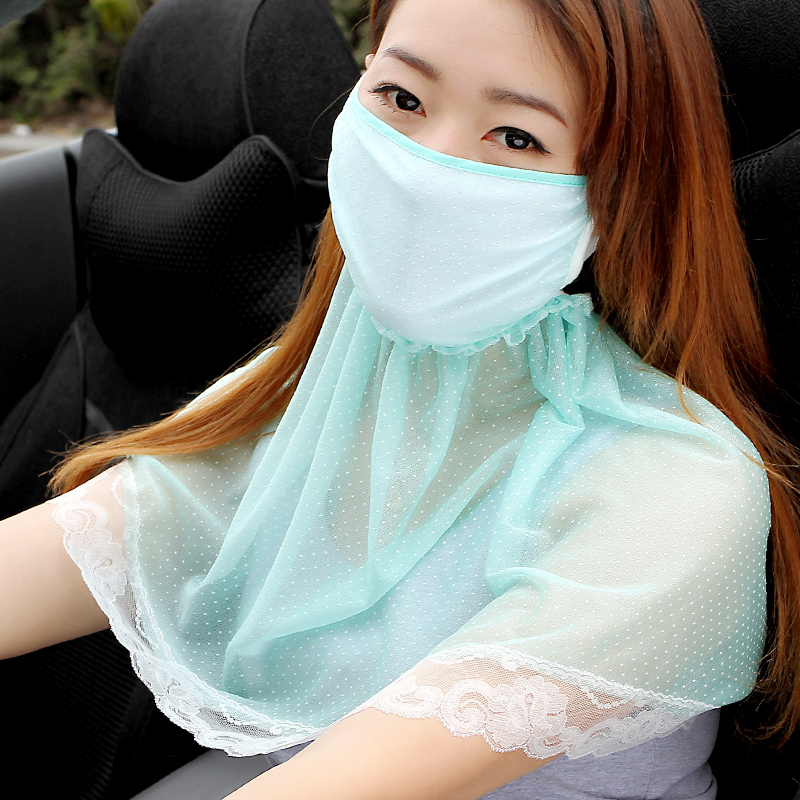face_mask: (328, 0, 595, 331)
